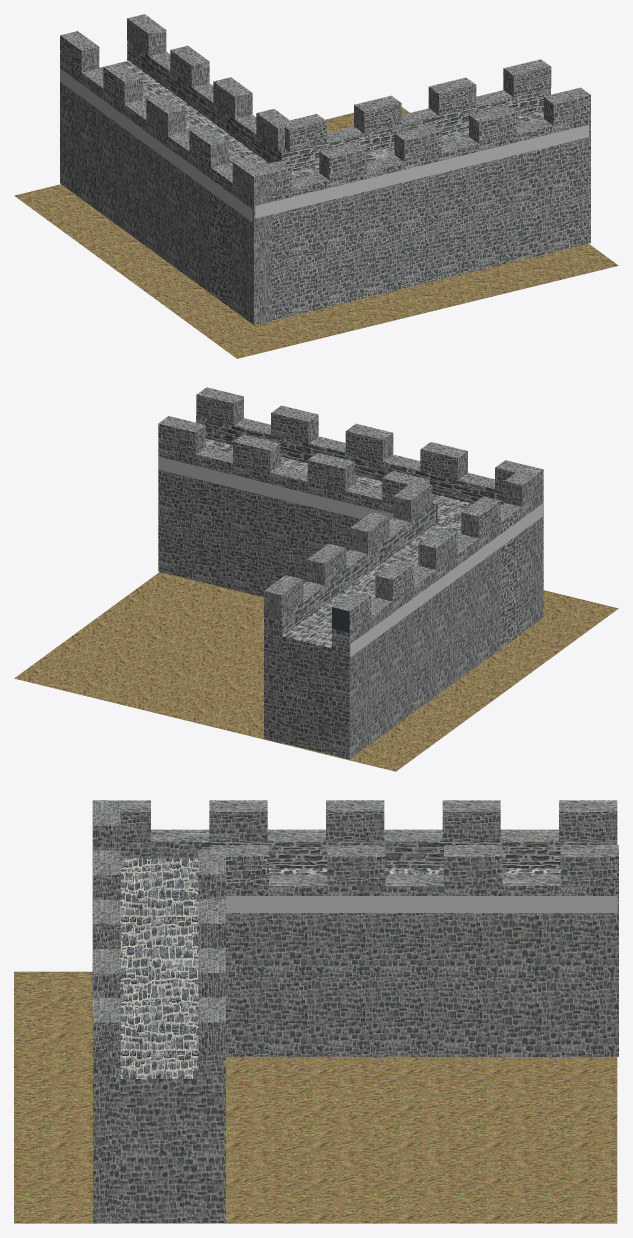
Rendered from HumanWallCorner.fbx.
The picture shows the model from 3 angles, top to bottom: view 1: azimuth 30°, elevation 25°; view 2: azimuth 150°, elevation 25°; view 3: azimuth 270°, elevation 25°; orthographic projection. The views are drawn at different scales.
Visible parts, largest first — view 1: Exterior, Exterior.001, Suelo, Interior.001, Interior, BandaRoja, BandaRoja.001; view 2: Exterior.001, Suelo, Exterior, Interior.001, Interior, BandaRoja, BandaRoja.001; view 3: Exterior.001, Suelo, Interior, Exterior, Interior.001, BandaRoja.001.
Part boxes in pixels (x1=…): Exterior: x1=245, y1=59, x2=590, y2=320; Exterior.001: x1=60, y1=14, x2=295, y2=325; Suelo: x1=14, y1=107, x2=618, y2=358; Interior.001: x1=99, y1=41, x2=282, y2=165; Interior: x1=281, y1=88, x2=550, y2=179; BandaRoja: x1=255, y1=124, x2=588, y2=218; BandaRoja.001: x1=60, y1=69, x2=252, y2=222; Exterior.001: x1=264, y1=466, x2=543, y2=759; Suelo: x1=14, y1=572, x2=618, y2=771; Exterior: x1=158, y1=387, x2=542, y2=597; Interior.001: x1=281, y1=504, x2=461, y2=754; Interior: x1=196, y1=416, x2=504, y2=530; BandaRoja: x1=158, y1=457, x2=393, y2=520; BandaRoja.001: x1=263, y1=503, x2=542, y2=656; Exterior.001: x1=92, y1=800, x2=618, y2=1056; Suelo: x1=14, y1=971, x2=617, y2=1223; Interior: x1=120, y1=858, x2=224, y2=1222; Exterior: x1=93, y1=801, x2=225, y2=1223; Interior.001: x1=201, y1=841, x2=616, y2=874; BandaRoja.001: x1=226, y1=896, x2=617, y2=912.
Size of the model in its own units: 922 by 342 by 930.
